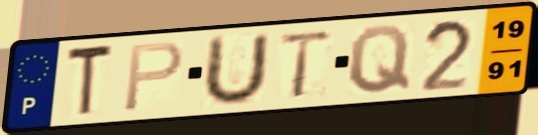2: (416, 17, 479, 93)
P: (120, 39, 186, 115)
Q: (346, 22, 413, 96)
T: (276, 28, 337, 102), (65, 41, 117, 121)
U: (198, 30, 273, 110)
